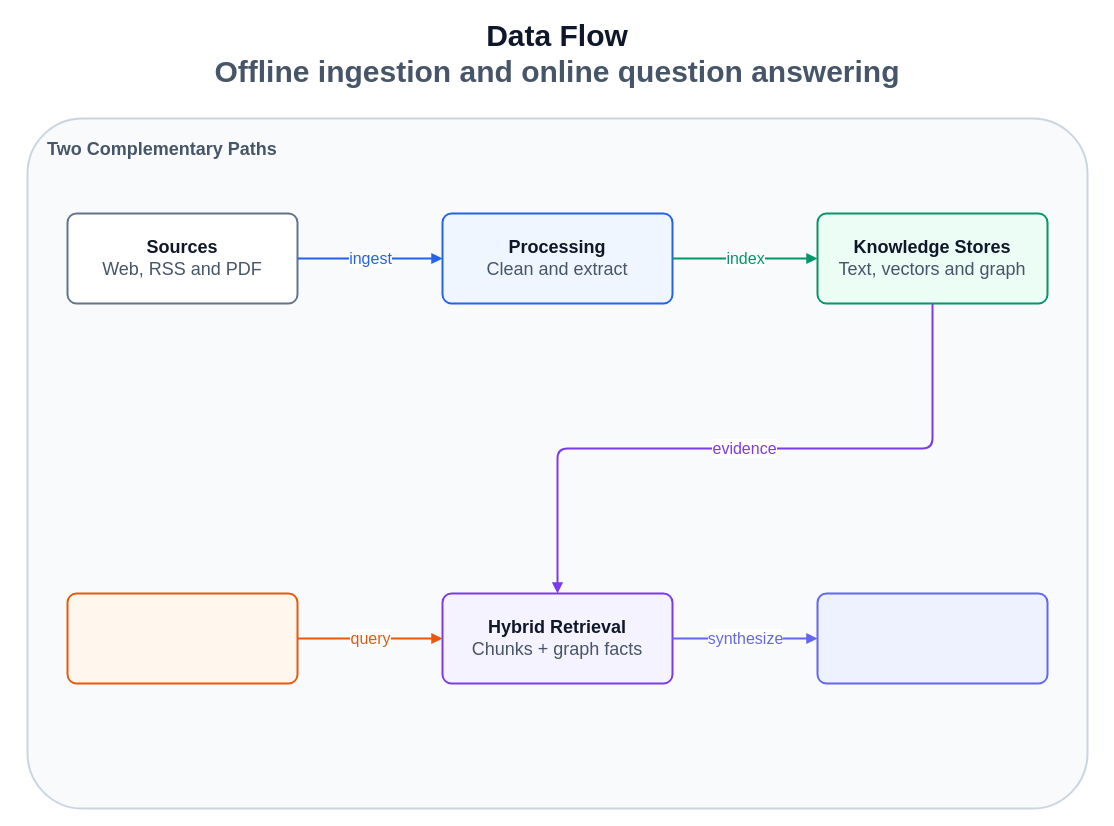
Image size: 1114x826. Some labels were removed from this diagram. Each missing label, with the box of its shape:
Cited Answer: (816, 592, 1048, 684)
User Question: (66, 592, 298, 684)
